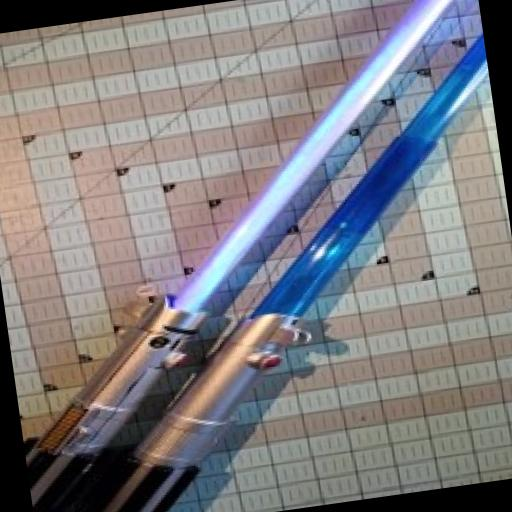lightsaber: (0, 0, 512, 512), (6, 37, 512, 512)
